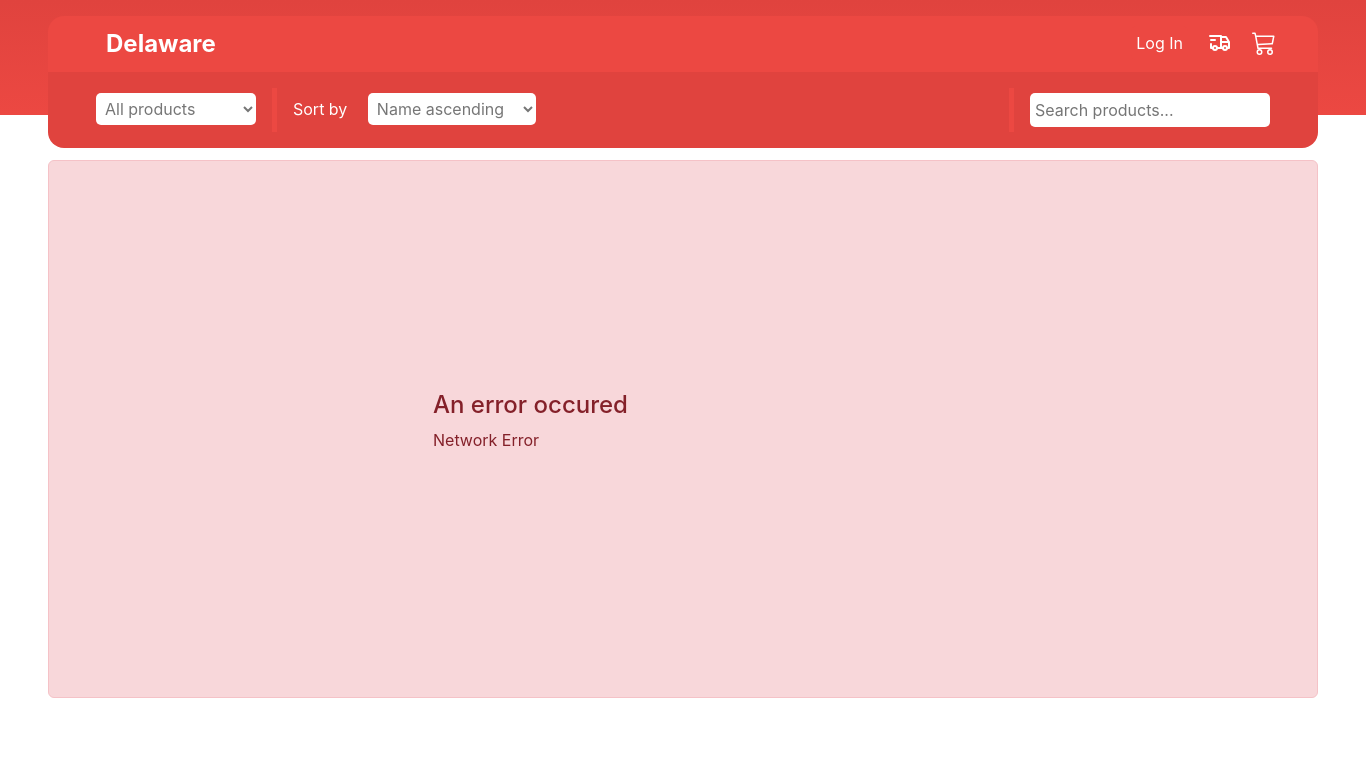
Test: Testing tracking › test empty tracking
Step 1. Click the link with test id "navTrack" → {"x": 1220, "y": 38}, box x1=1208 y1=28 x2=1232 y2=48
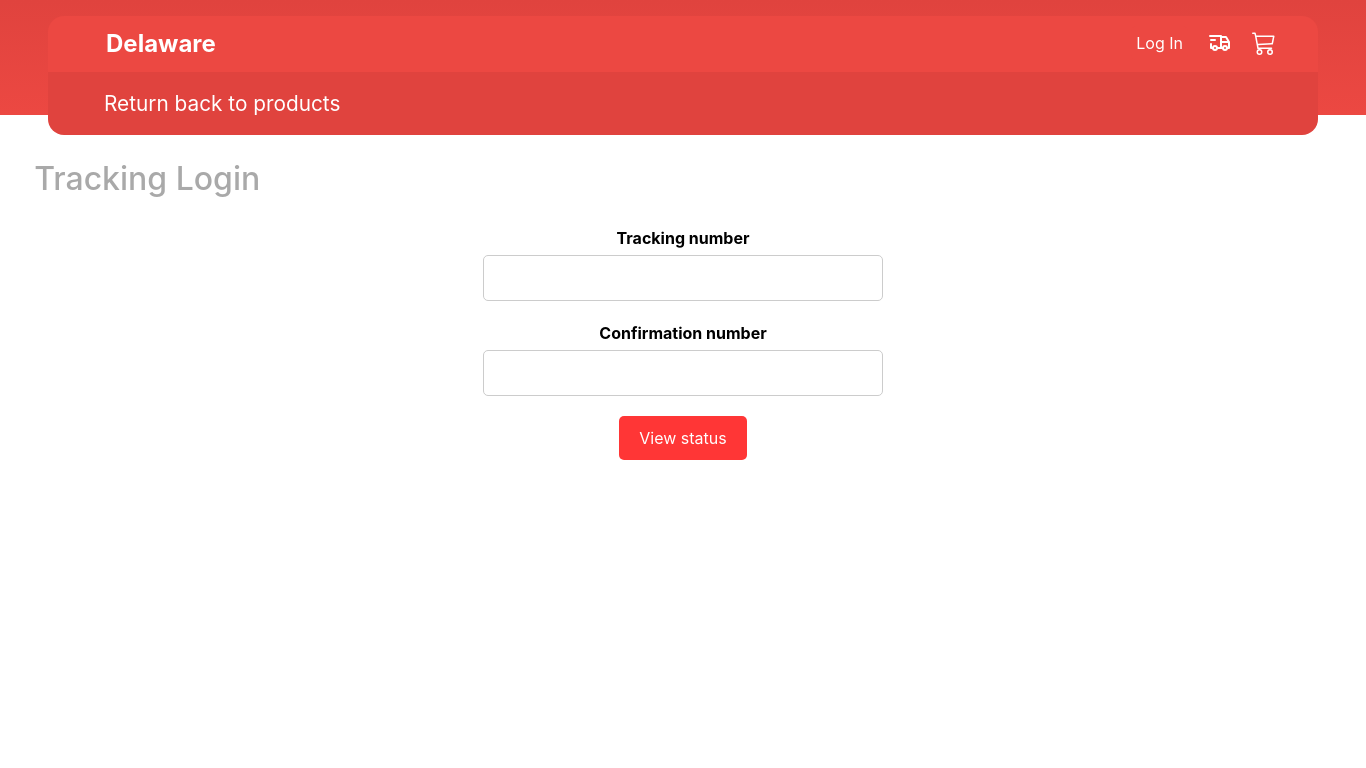
Step 2. Click the button with test id "submitTrack" → {"x": 683, "y": 438}, box x1=619 y1=416 x2=746 y2=460
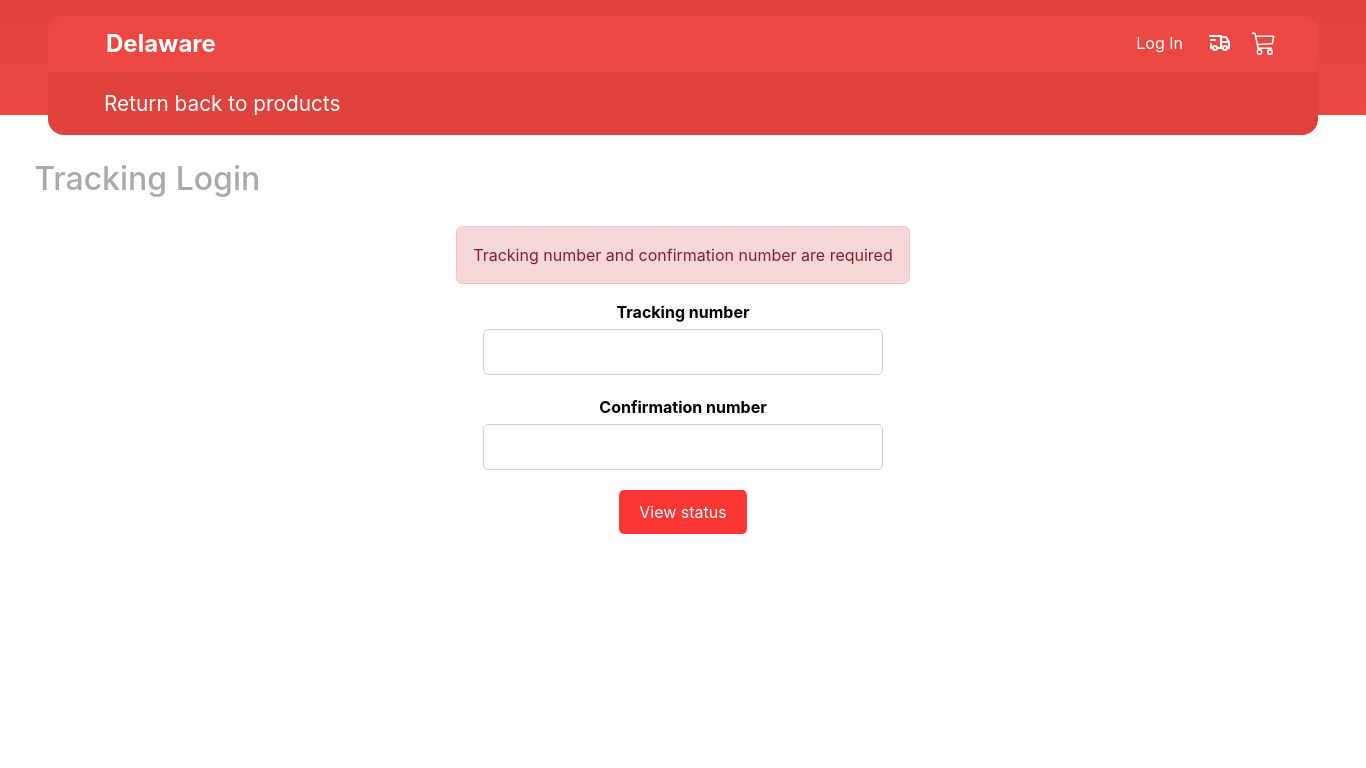
Now the text "Tracking number and confirmation number are required" is shown, box x1=456 y1=226 x2=910 y2=284
Now the text with test id "trackError" reads "Tracking number and confirmation number are required", box x1=473 y1=245 x2=892 y2=265
